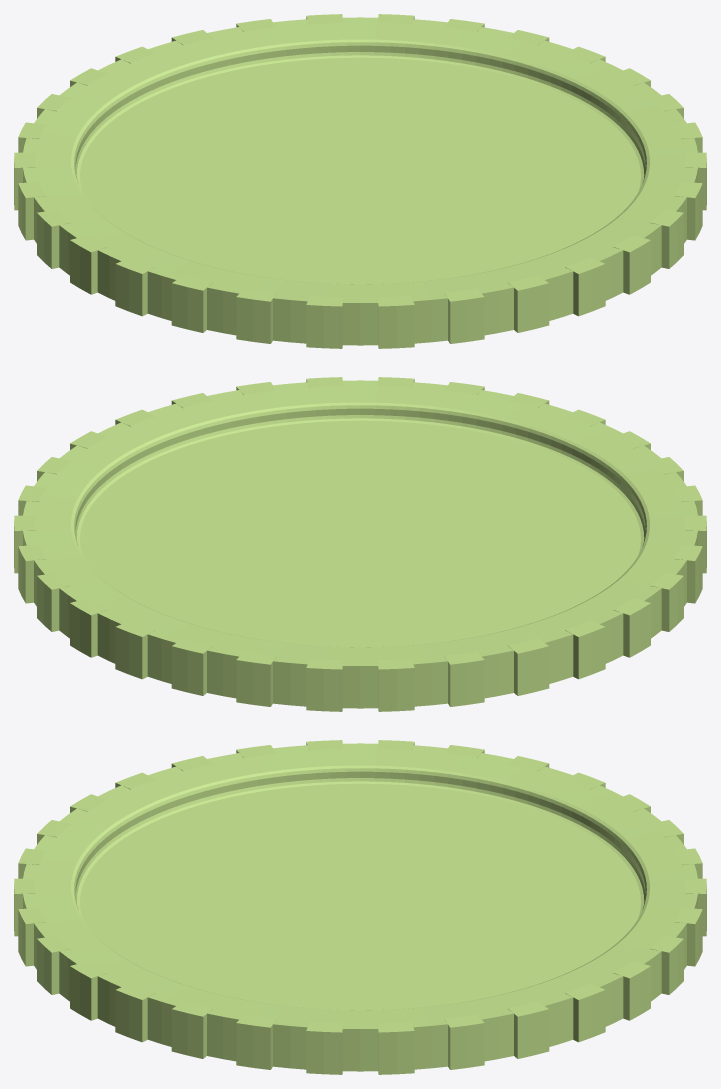
File: coin.fbx
3 views of the same model, one above another, from view 1: azimuth 30°, elevation 25°; view 2: azimuth 150°, elevation 25°; view 3: azimuth 270°, elevation 25° (orthographic).
Visible parts, largest first — view 1: Gear.004; view 2: Gear.004; view 3: Gear.004.
Boxes of the visible parts, <box> form: Gear.004: <box>14,14,706,348</box>; Gear.004: <box>14,377,706,711</box>; Gear.004: <box>14,740,706,1074</box>.
Size of the model in its own units: 326 by 22 by 326.
